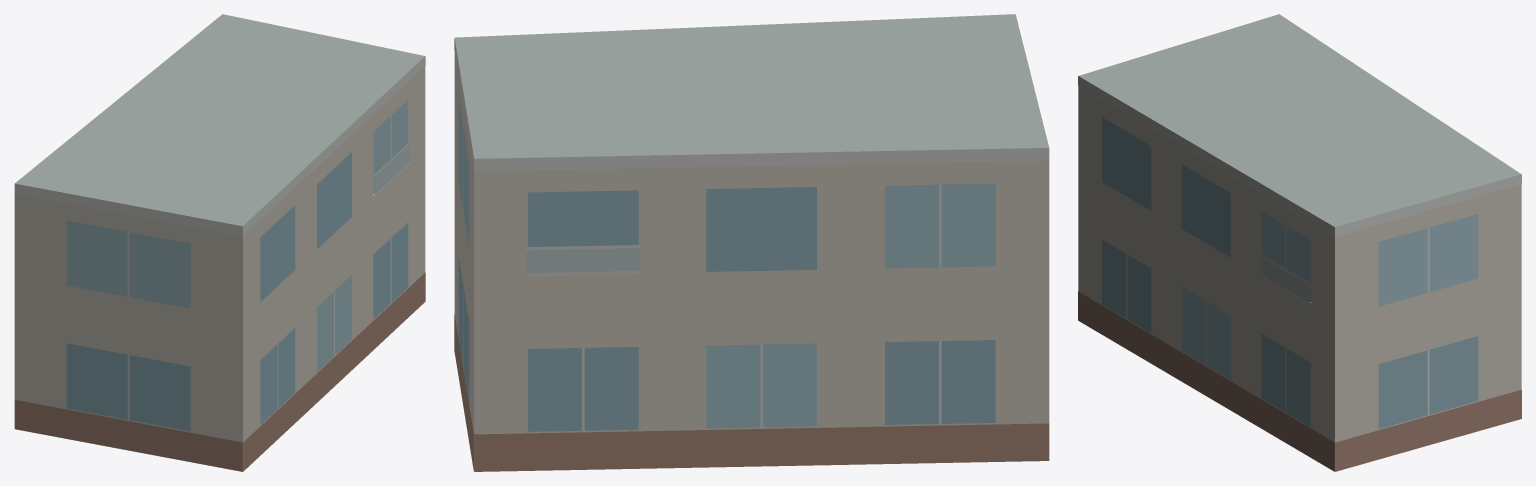
The model's file is survey-upis-32495802.glb.
3 renders of one model, left to right at view 1: azimuth 30°, elevation 25°; view 2: azimuth 150°, elevation 25°; view 3: azimuth 270°, elevation 25°, orthographic. The views are drawn at different scales.
Visible parts, largest first — view 1: survey-upis-32495802.tmp; view 2: survey-upis-32495802.tmp; view 3: survey-upis-32495802.tmp.
Boxes of the visible parts, x1=… form: survey-upis-32495802.tmp: x1=14, y1=14, x2=425, y2=471; survey-upis-32495802.tmp: x1=454, y1=14, x2=1049, y2=471; survey-upis-32495802.tmp: x1=1078, y1=14, x2=1521, y2=471.
Size of the model in its own units: 11.41 by 6.1 by 10.03.
